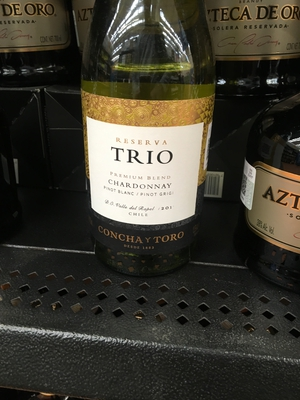trio chardonnay: (69, 9, 243, 318)
